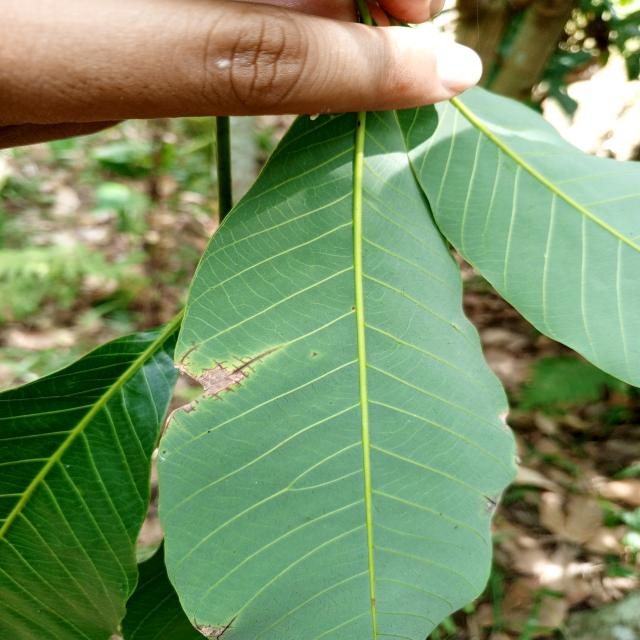Corynespora: (228, 346, 282, 375), (216, 616, 238, 640), (178, 344, 200, 366), (482, 494, 498, 514), (213, 359, 229, 370)
Leaf-Blight: (198, 626, 224, 636)
